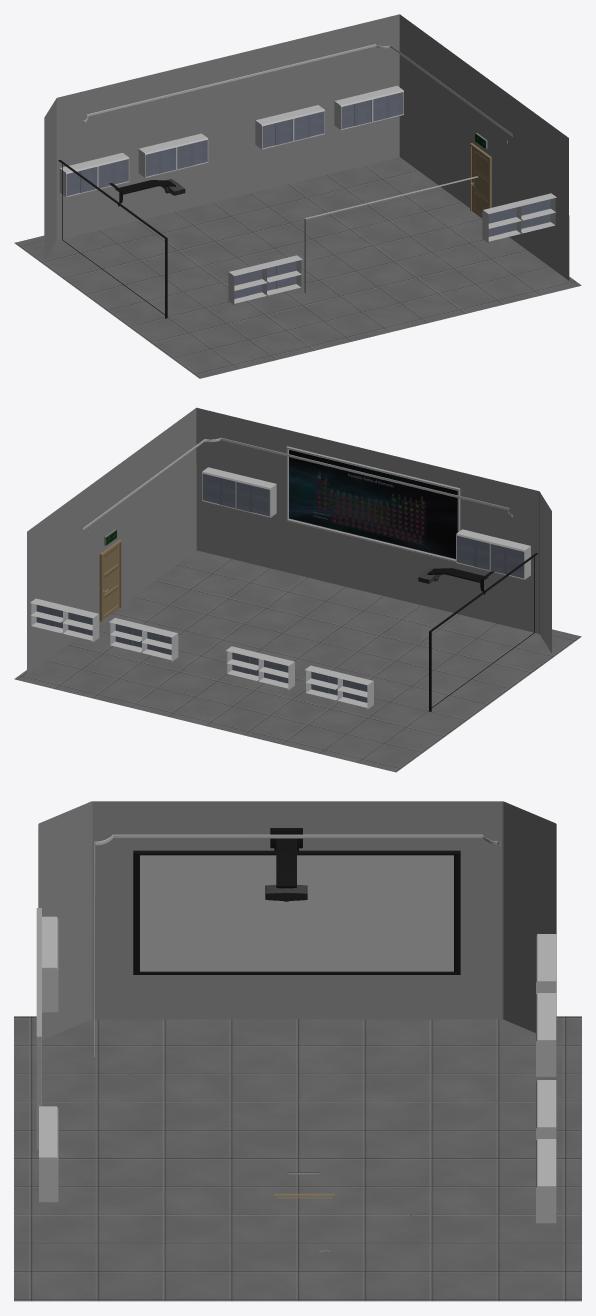
Rendered from Classroom.gltf.
3 renders of one model, top to bottom at view 1: azimuth 30°, elevation 25°; view 2: azimuth 150°, elevation 25°; view 3: azimuth 270°, elevation 25°, orthographic. The views are drawn at different scales.
Parts seen in each view (by area): view 1: Floor, Wall1, Upper_Shelf_02, Upper_Shelf_01, False_Celling_Outer, Upper_Shelf_Glass (2), Upper_Shelf_Glass, Upper_Shelf_Glass (1), Upper_Shelf_Glass (3), Upper_Shelf_Glass_01, Upper_Shelf_Glass_02, Door_Part1 (+6 smaller); view 2: Floor, Wall1, Periodic_Table_Frame, Upper_Shelf_Glass_01, Upper_Shelf_Glass_02, Upper_Shelf (1), Upper_Shelf, Upper_Shelf (2), Upper_Shelf (3), False_Celling_Outer, Door_Part1, Upper_Shelf_02 (+7 smaller); view 3: Floor, Wall1, White_Board, False_Celling_Outer, Upper_Shelf_02, Upper_Shelf (1), Upper_Shelf (2), Upper_Shelf_01, Periodic_Table_Frame, Upper_Shelf, Upper_Shelf (3), Stand_2.
Part boxes in pixels (bbox=[...]): Floor: bbox=[14, 157, 581, 378]; Wall1: bbox=[44, 14, 569, 280]; Upper_Shelf_02: bbox=[482, 193, 556, 243]; Upper_Shelf_01: bbox=[228, 255, 302, 305]; False_Celling_Outer: bbox=[83, 44, 512, 143]; Upper_Shelf_Glass (2): bbox=[146, 140, 207, 176]; Upper_Shelf_Glass: bbox=[262, 111, 323, 148]; Upper_Shelf_Glass (1): bbox=[341, 92, 402, 128]; Upper_Shelf_Glass (3): bbox=[67, 159, 128, 195]; Upper_Shelf_Glass_01: bbox=[488, 199, 550, 236]; Upper_Shelf_Glass_02: bbox=[234, 261, 296, 298]; Door_Part1: bbox=[472, 147, 488, 217]; Floor: bbox=[14, 550, 581, 772]; Wall1: bbox=[27, 407, 551, 673]; Periodic_Table_Frame: bbox=[286, 446, 460, 562]; Upper_Shelf_Glass_01: bbox=[202, 473, 269, 516]; Upper_Shelf_Glass_02: bbox=[457, 535, 523, 578]; Upper_Shelf (1): bbox=[30, 598, 99, 642]; Upper_Shelf: bbox=[109, 618, 178, 661]; Upper_Shelf (2): bbox=[226, 646, 294, 690]; Upper_Shelf (3): bbox=[305, 665, 373, 709]; False_Celling_Outer: bbox=[83, 437, 512, 536]; Door_Part1: bbox=[103, 544, 119, 619]; Upper_Shelf_02: bbox=[202, 467, 276, 517]; Floor: bbox=[14, 1016, 581, 1301]; Wall1: bbox=[38, 801, 556, 1041]; White_Board: bbox=[133, 850, 460, 974]; False_Celling_Outer: bbox=[94, 834, 500, 1064]; Upper_Shelf_02: bbox=[39, 1106, 58, 1202]; Upper_Shelf (1): bbox=[536, 1139, 556, 1223]; Upper_Shelf (2): bbox=[536, 993, 556, 1077]; Upper_Shelf_01: bbox=[42, 916, 58, 1012]; Periodic_Table_Frame: bbox=[36, 908, 41, 1149]; Upper_Shelf: bbox=[536, 1080, 556, 1140]; Upper_Shelf (3): bbox=[536, 934, 556, 994]; Stand_2: bbox=[276, 847, 296, 888].
Size of the model in its own units: 11.2 by 4.07 by 9.43.
Materials: 13 (4 with a texture image).
